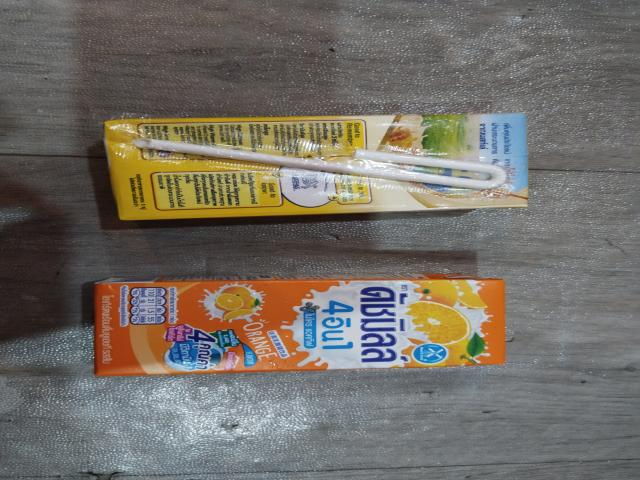drink_box: (99, 109, 537, 216), (67, 272, 525, 372)
